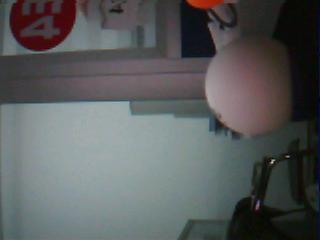oball: (187, 1, 223, 10)
